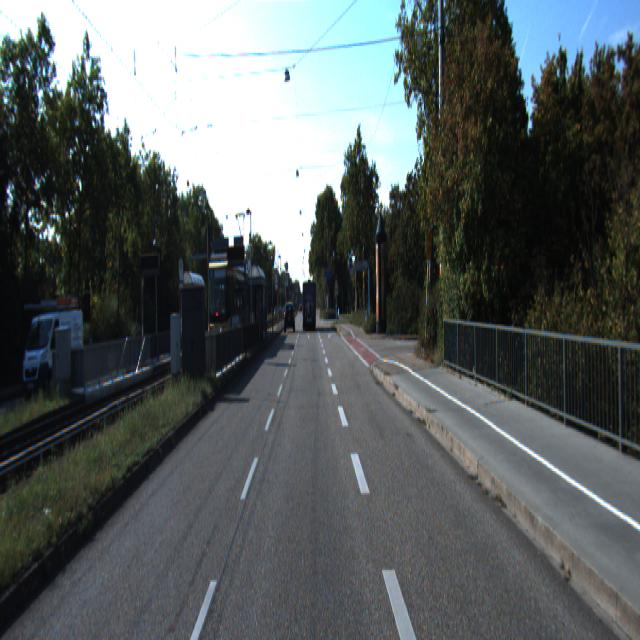Car: (23, 311, 88, 402), (202, 254, 255, 358), (302, 279, 316, 330), (284, 301, 295, 332)
